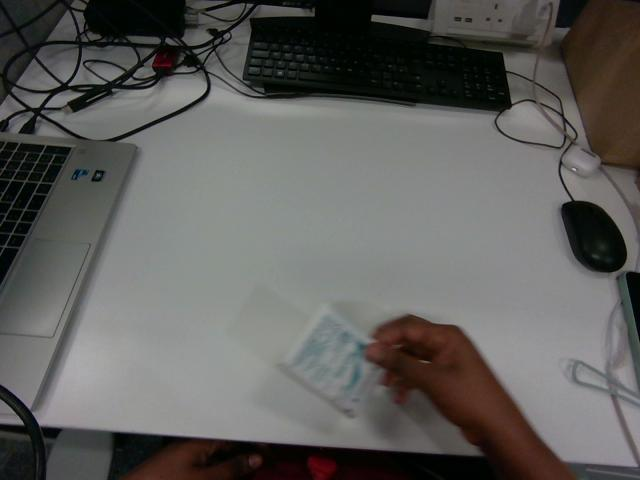gauze: (280, 306, 379, 416)
